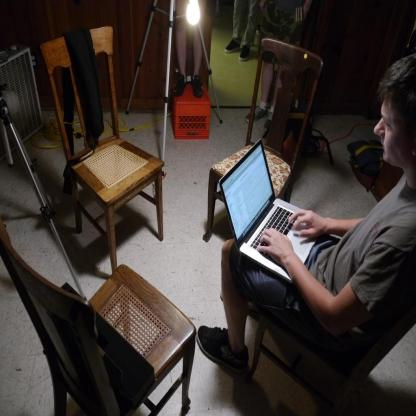board: (233, 136, 316, 283)
